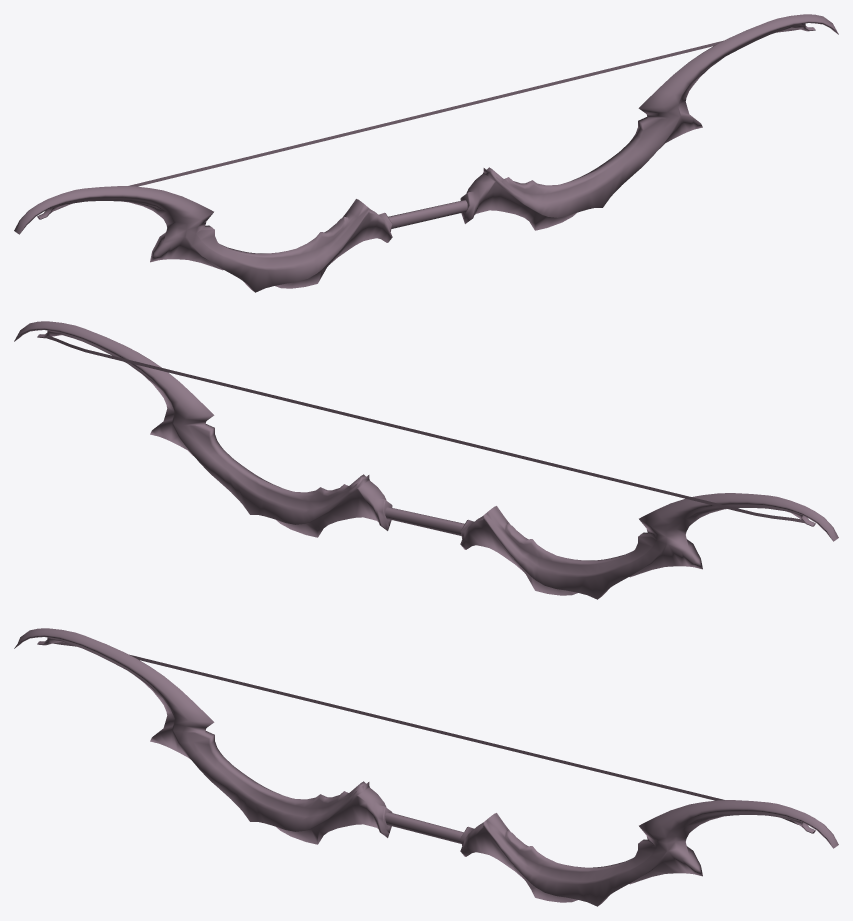
File: SM_Skeleton_Archer_Bow.fbx
3 views of the same model, one above another, from view 1: azimuth 30°, elevation 25°; view 2: azimuth 150°, elevation 25°; view 3: azimuth 330°, elevation 25° (orthographic).
Visible parts, largest first — view 1: SM_Skeleton_Archer_Bow; view 2: SM_Skeleton_Archer_Bow; view 3: SM_Skeleton_Archer_Bow.
Boxes of the visible parts, <box> form: SM_Skeleton_Archer_Bow: <box>14,14,838,292</box>; SM_Skeleton_Archer_Bow: <box>14,321,838,599</box>; SM_Skeleton_Archer_Bow: <box>14,628,838,906</box>.
Size of the model in its own units: 171 by 30.57 by 4.76.
